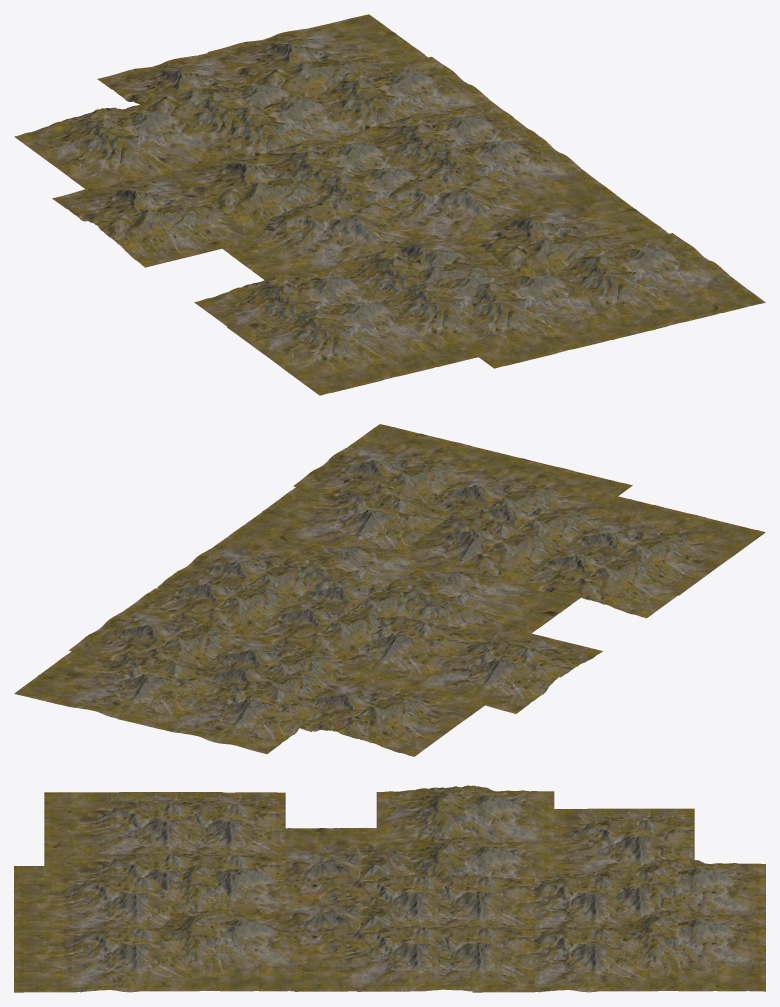
Rendered from vertical.glb.
3 renders of one model, top to bottom at view 1: azimuth 30°, elevation 25°; view 2: azimuth 150°, elevation 25°; view 3: azimuth 270°, elevation 25°, orthographic. The views are drawn at different scales.
Parts seen in each view (by area): view 1: Mesh, Mesh.001; view 2: Mesh, Mesh.001; view 3: Mesh, Mesh.001.
Boxes of the visible parts, left/top/right/bottom form: Mesh: left=14, top=53, right=655, bottom=395; Mesh.001: left=162, top=14, right=765, bottom=368; Mesh: left=117, top=451, right=765, bottom=756; Mesh.001: left=14, top=424, right=662, bottom=731; Mesh: left=14, top=785, right=765, bottom=937; Mesh.001: left=14, top=836, right=765, bottom=992.
Bounding box in the file's own units: 1547 × 243 × 2459.
Materials: 20 (3 with a texture image).
